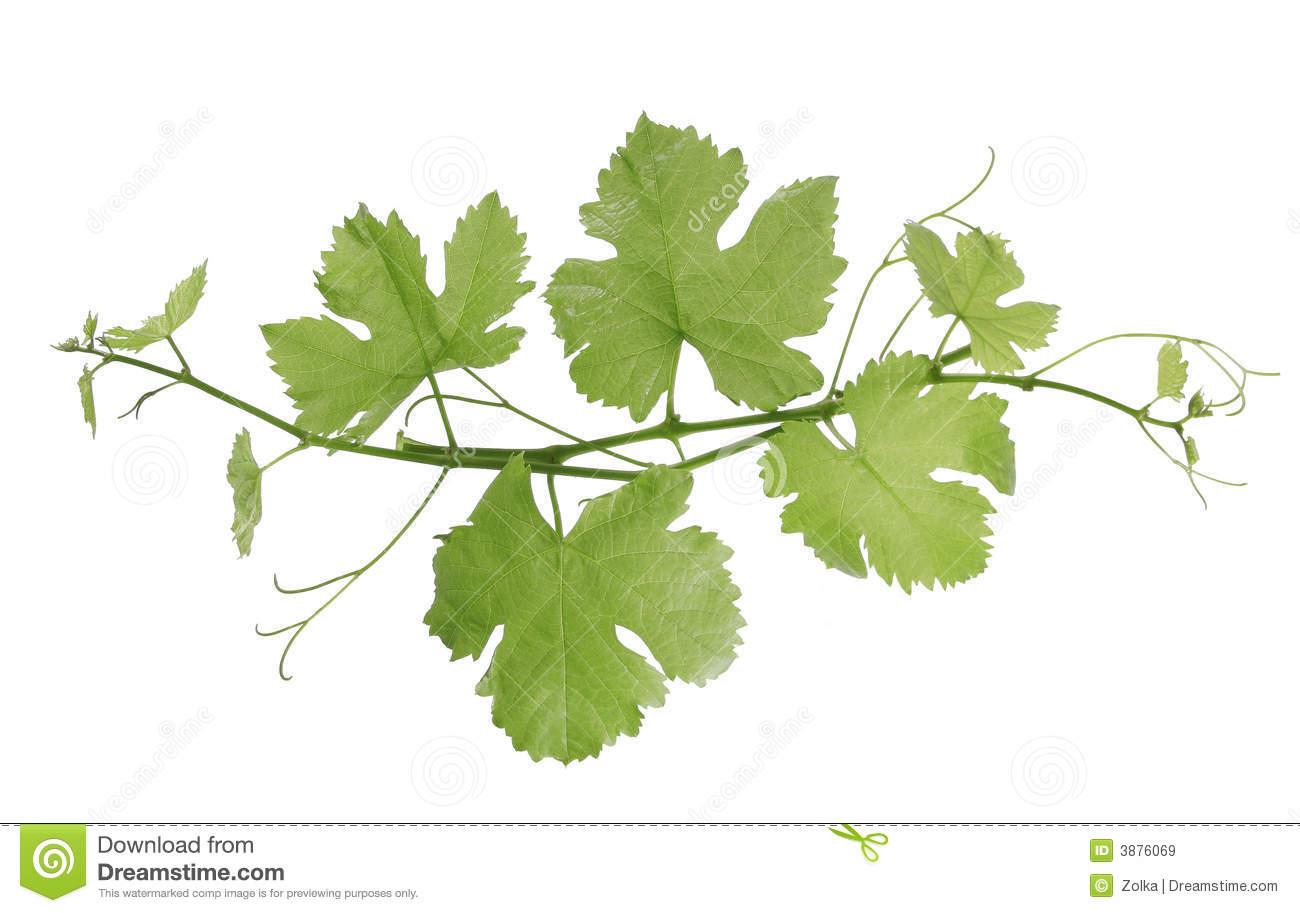grape leaf black rot: (386, 452, 752, 788), (547, 112, 856, 437), (255, 190, 538, 468), (758, 360, 1033, 621), (873, 209, 1065, 381)
